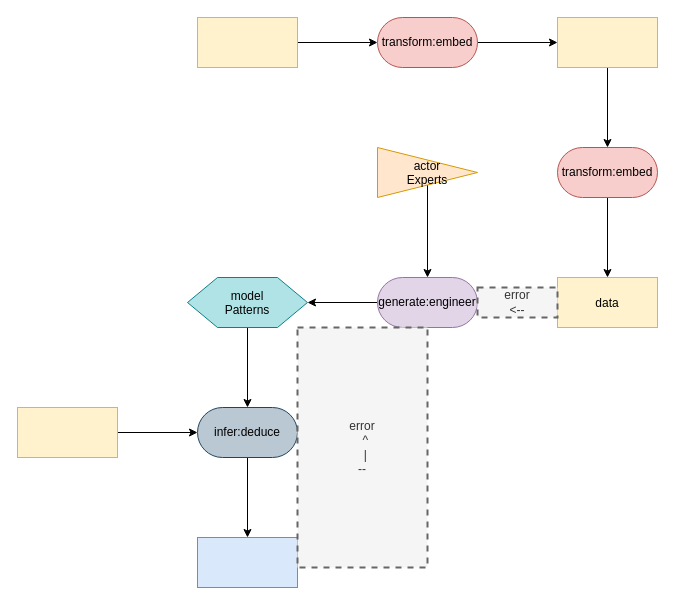
The diagram is 675 pixels wide and 605 high, and some of its shapes have lost their labels. Here are the shapes that lost their labels. From the top down, the centre of each, then its label:
At [247,42]: "data EHRs".
At [607,42]: "data Preprocessed Data".
At [67,432]: "data Patient Data".
At [247,562]: "symbol Risk Assessment + Recommendation".
